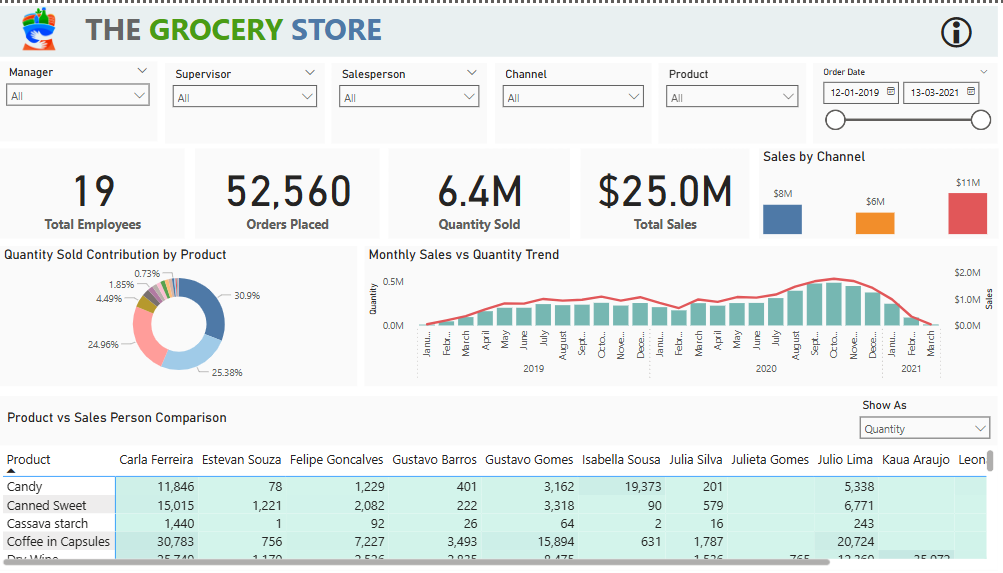

This screenshot's page, from the dashboard's own definition file:
{"tool":"powerbi","page":{"name":"Sales Summary","canvas":[1280,720],"ordinal":0},"visuals":[{"type":"shape","box":[10.1,494.4,1258.9,219.9],"z":0},{"type":"shape","box":[11.4,2.9,1257.1,64.3],"z":1000},{"type":"image","box":[22.9,0,74.3,67.1],"z":2000},{"type":"card","fields":{"Values":["Sales.Total Employees"]},"box":[11.5,182.5,232.8,113.5],"z":3000},{"type":"card","fields":{"Values":["Sales.Orders Placed"]},"box":[257.2,184,232.8,113.5],"z":4000},{"type":"card","fields":{"Values":["Sales.Quantity"]},"box":[501.6,184,228.5,113.5],"z":5000},{"type":"card","fields":{"Values":["Sales.Sales"]},"box":[743,184,212.7,113.5],"z":6000},{"type":"columnChart","title":"Sales by Channel","fields":{"Y":["Sales.Sales"],"Category":["Sales.Channel"]},"box":[967.2,184,301.8,113.5],"z":7000},{"type":"card","fields":{"Values":["Sales.Information Icon1"]},"box":[1181.4,0,70,64.3],"z":8000},{"type":"slicer","fields":{"Values":["Sales.Manager"]},"box":[10.1,73.3,199.8,100.6],"z":9000},{"type":"slicer","fields":{"Values":["Sales.Supervisor"]},"box":[219.1,75.7,201.4,101.4],"z":10000},{"type":"slicer","fields":{"Values":["Sales.Salesperson"]},"box":[429.7,75.7,195.7,101.4],"z":11000},{"type":"slicer","fields":{"Values":["Sales.Channel"]},"box":[634.6,75.7,197.1,101.4],"z":12000},{"type":"slicer","fields":{"Values":["Sales.OrderDate"]},"box":[1035.7,75.7,232.9,101.4],"z":13000},{"type":"slicer","fields":{"Values":["Sales.Product"]},"box":[840.9,75.7,185.7,101.4],"z":14000},{"type":"donutChart","title":"Quantity Sold Contribution by Product","fields":{"Category":["Sales.Product"],"Y":["Sales.Quantity"]},"box":[11.5,306.1,449.8,176.8],"z":15000},{"type":"lineStackedColumnComboChart","title":"Monthly Sales vs Quantity Trend","fields":{"Y":["Sales.Quantity"],"Y2":["Sales.Sales"],"Category":["Sales.OrderDate.Variation.Date Hierarchy.Year","Sales.OrderDate.Variation.Date Hierarchy.Month"]},"box":[471.4,306.1,797.6,176.8],"z":16000},{"type":"pivotTable","title":"Product vs Sales Person Comparison","fields":{"Values":["Sales.Calc Quantity"],"Rows":["Sales.Product"],"Columns":["Sales.Salesperson"]},"box":[10.1,557.6,1258.9,156.6],"z":17000},{"type":"textbox","box":[114.3,1.4,548.6,65.7],"z":19000},{"type":"slicer","fields":{"Values":["Parameter.Parameter"]},"box":[1085,492.9,184,63.2],"z":20000},{"type":"textbox","box":[14.4,507.3,389.5,40.2],"z":20502}]}

Visuals, with their boxes in screenshot pixels (x1, y1, x2, y2), scaled from the page's 1280x720 canvas onto the 1003x573 screenshot:
shape: [x1=8, y1=393, x2=994, y2=568]
shape: [x1=9, y1=2, x2=994, y2=53]
image: [x1=18, y1=0, x2=76, y2=53]
card - Sales.Total Employees: [x1=9, y1=145, x2=191, y2=236]
card - Sales.Orders Placed: [x1=202, y1=146, x2=384, y2=237]
card - Sales.Quantity: [x1=393, y1=146, x2=572, y2=237]
card - Sales.Sales: [x1=582, y1=146, x2=749, y2=237]
"Sales by Channel" columnChart: [x1=758, y1=146, x2=994, y2=237]
card - Sales.Information Icon1: [x1=926, y1=0, x2=981, y2=51]
slicer - Sales.Manager: [x1=8, y1=58, x2=164, y2=138]
slicer - Sales.Supervisor: [x1=172, y1=60, x2=330, y2=141]
slicer - Sales.Salesperson: [x1=337, y1=60, x2=490, y2=141]
slicer - Sales.Channel: [x1=497, y1=60, x2=652, y2=141]
slicer - Sales.OrderDate: [x1=812, y1=60, x2=994, y2=141]
slicer - Sales.Product: [x1=659, y1=60, x2=804, y2=141]
"Quantity Sold Contribution by Product" donutChart: [x1=9, y1=244, x2=361, y2=384]
"Monthly Sales vs Quantity Trend" lineStackedColumnComboChart: [x1=369, y1=244, x2=994, y2=384]
"Product vs Sales Person Comparison" pivotTable: [x1=8, y1=444, x2=994, y2=568]
textbox: [x1=90, y1=1, x2=519, y2=53]
slicer - Parameter.Parameter: [x1=850, y1=392, x2=994, y2=443]
textbox: [x1=11, y1=404, x2=316, y2=436]
